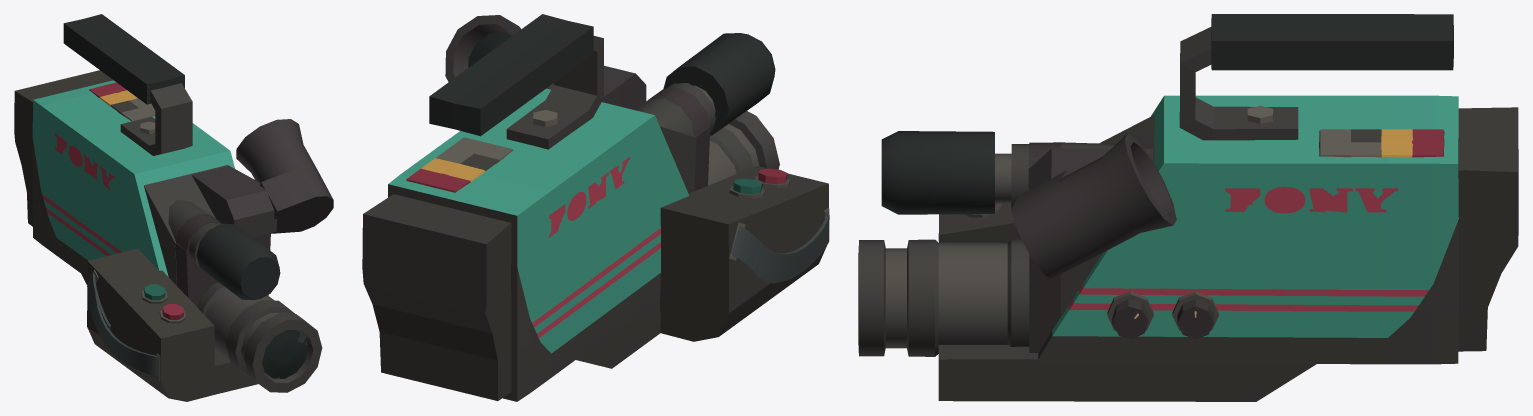
File: Camera.fbx
3 renders of one model, left to right at view 1: azimuth 30°, elevation 25°; view 2: azimuth 150°, elevation 25°; view 3: azimuth 270°, elevation 25°, orthographic. The views are drawn at different scales.
Parts seen in each view (by area): view 1: Camera; view 2: Camera; view 3: Camera.
Part boxes in pixels (<box>): Camera: <box>14,14,333,401</box>; Camera: <box>362,14,829,401</box>; Camera: <box>858,14,1518,401</box>.
Bounding box in the file's own units: 410 × 413 × 726.
